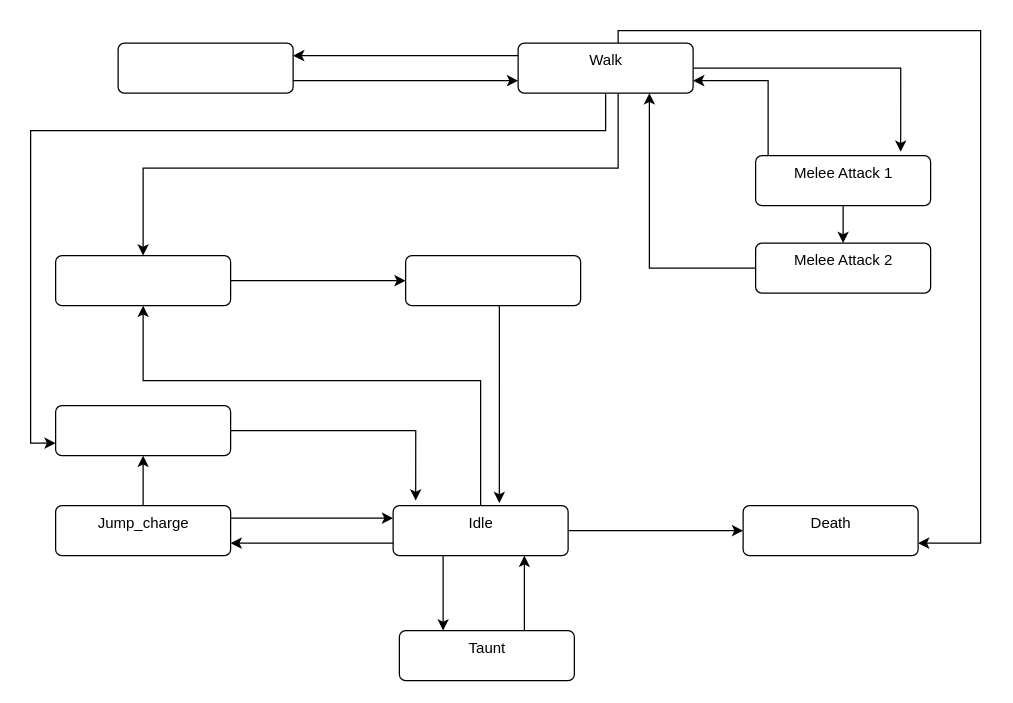
This 1013x703 diagram has some shape labels left out. Each missing label, with the centre of its shape:
"Dash" goes at point 205,67.
"Jump" goes at point 142,430.
"Leap_down" goes at point 492,280.
"Leap_up" goes at point 142,280.
